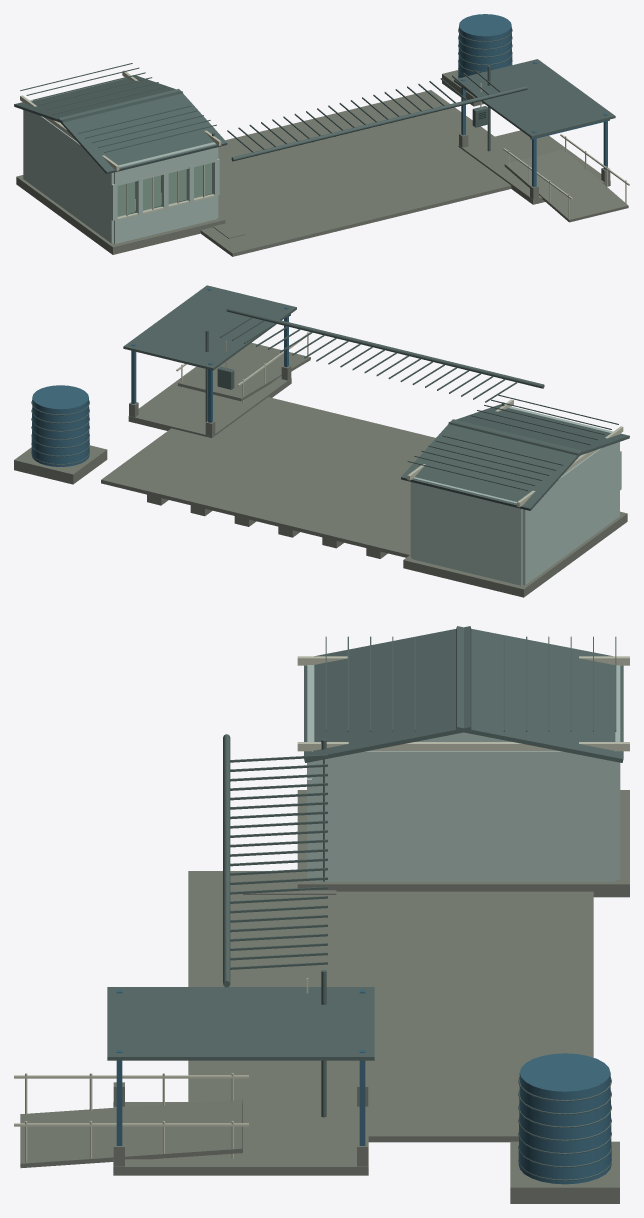
File: clinic-2.glb
3 renders of one model, top to bottom at view 1: azimuth 30°, elevation 25°; view 2: azimuth 150°, elevation 25°; view 3: azimuth 270°, elevation 25°, orthographic. The views are drawn at different scales.
Visible parts, largest first — view 1: Clinic_2; view 2: Clinic_2; view 3: Clinic_2.
Part boxes in pixels (x1=…): Clinic_2: x1=14, y1=14, x2=629, y2=256; Clinic_2: x1=14, y1=285, x2=629, y2=597; Clinic_2: x1=14, y1=626, x2=629, y2=1203.
Size of the model in its own units: 23.6 by 5.68 by 15.2.
